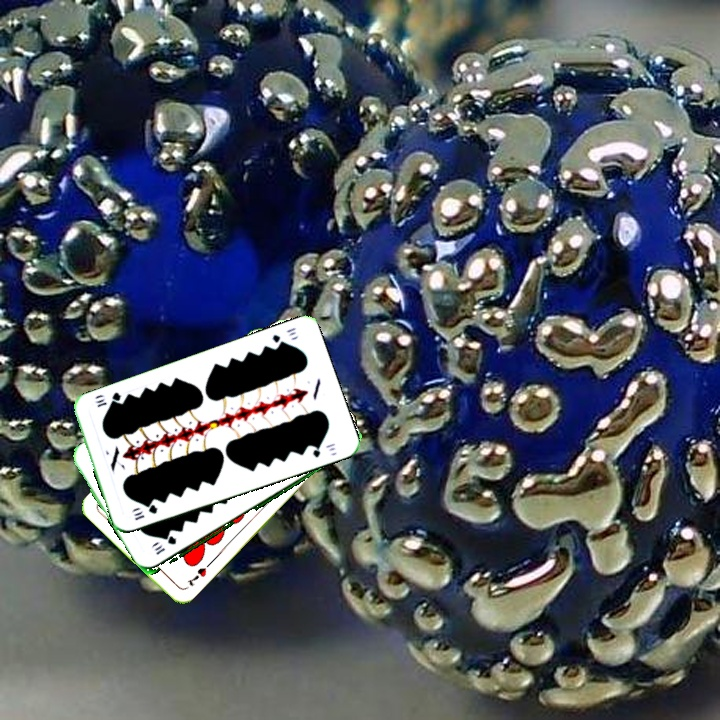G10: (268, 323, 299, 349), (151, 533, 179, 557), (131, 500, 160, 523)
H7: (183, 563, 209, 589)
